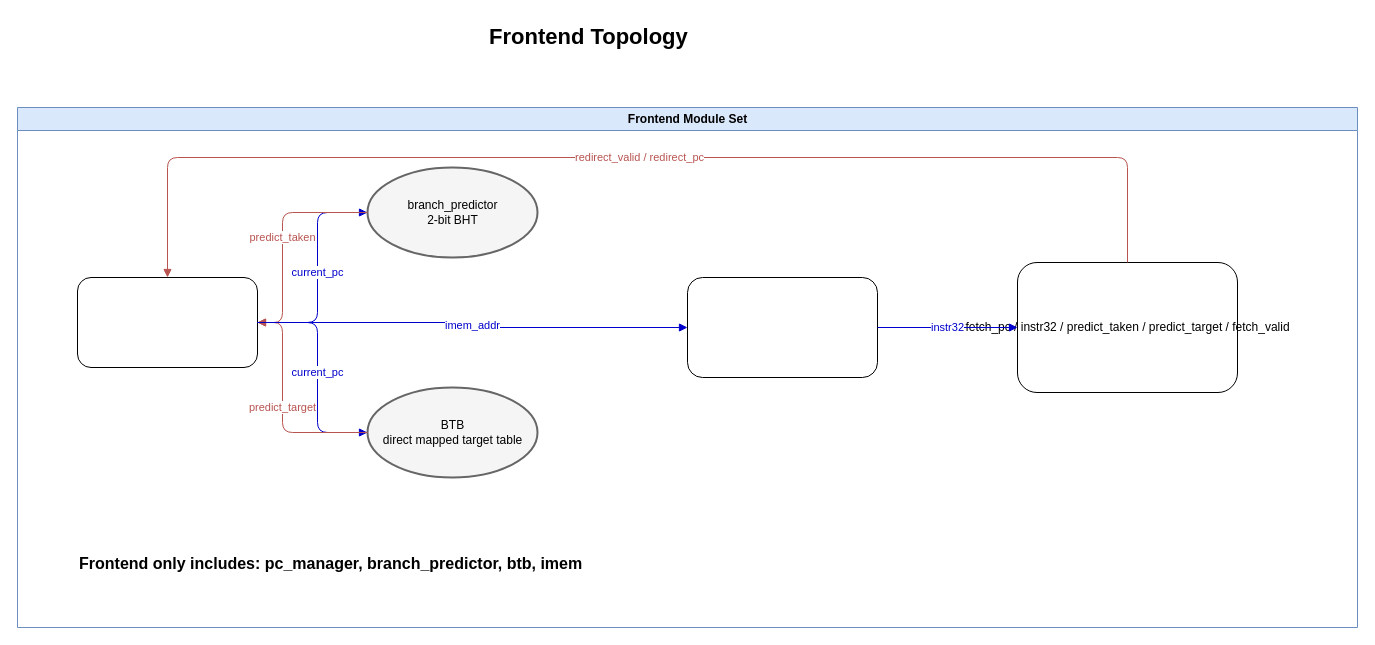
The diagram is 1375 pixels wide and 645 high, and some of its shapes have lost their labels. Here are the shapes that lost their labels. From the top down, the centre of each, then its label:
[167,322]: pc_manager
[782,327]: imem_bram
